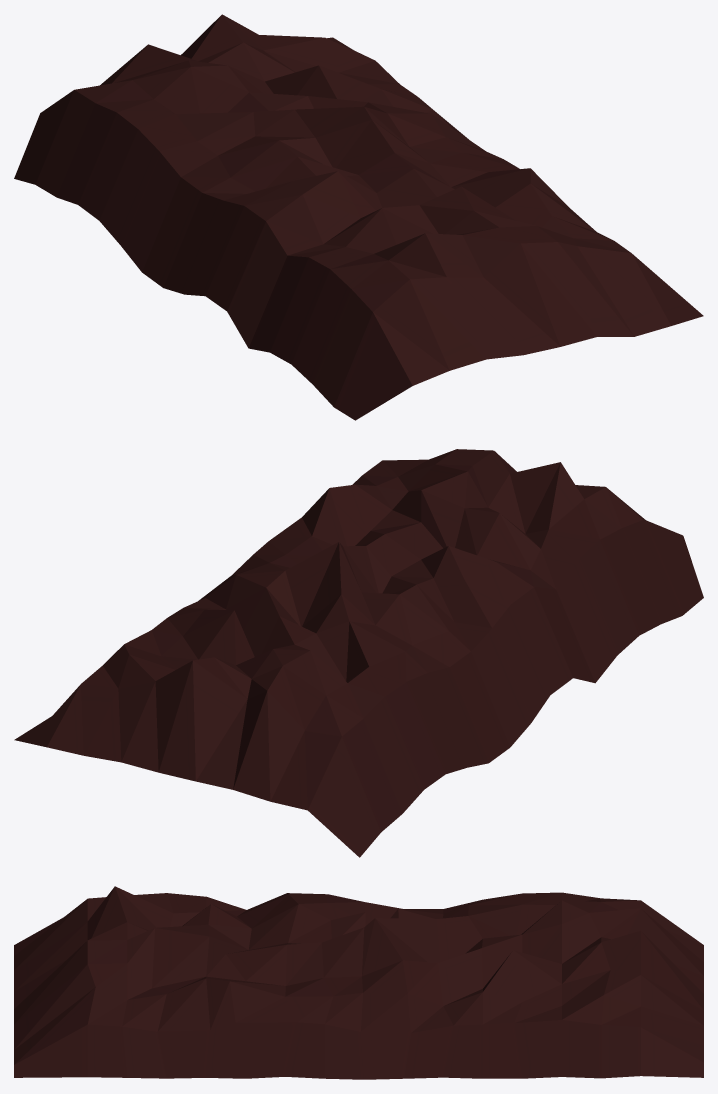
File: Mountains.fbx
3 renders of one model, top to bottom at view 1: azimuth 30°, elevation 25°; view 2: azimuth 150°, elevation 25°; view 3: azimuth 270°, elevation 25°, orthographic. The views are drawn at different scales.
Visible parts, largest first — view 1: Plane; view 2: Plane; view 3: Plane.
Boxes of the visible parts, bbox=[...] form: Plane: bbox=[14, 14, 703, 420]; Plane: bbox=[14, 449, 703, 857]; Plane: bbox=[14, 886, 703, 1079].
Size of the model in its own units: 565 by 238 by 1091.
